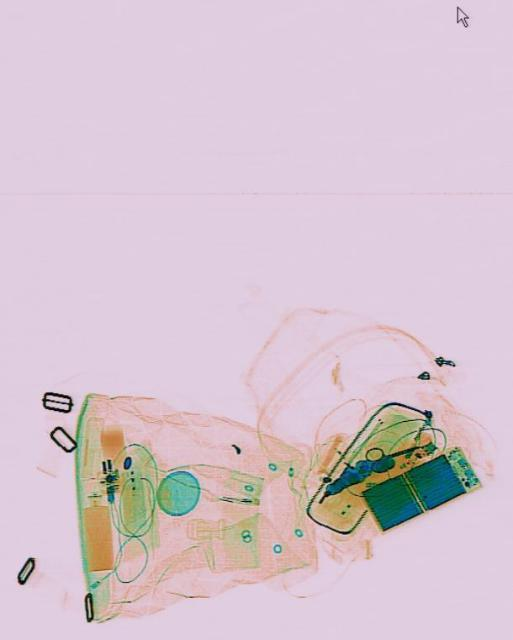Scissors: (362, 428, 431, 476)
